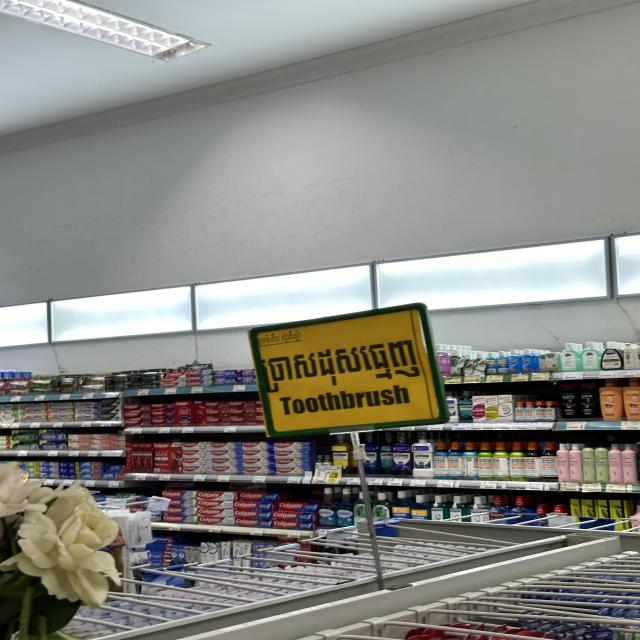Yolov11kh: (255, 332, 425, 397)
